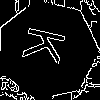K: (22, 25, 75, 68)
